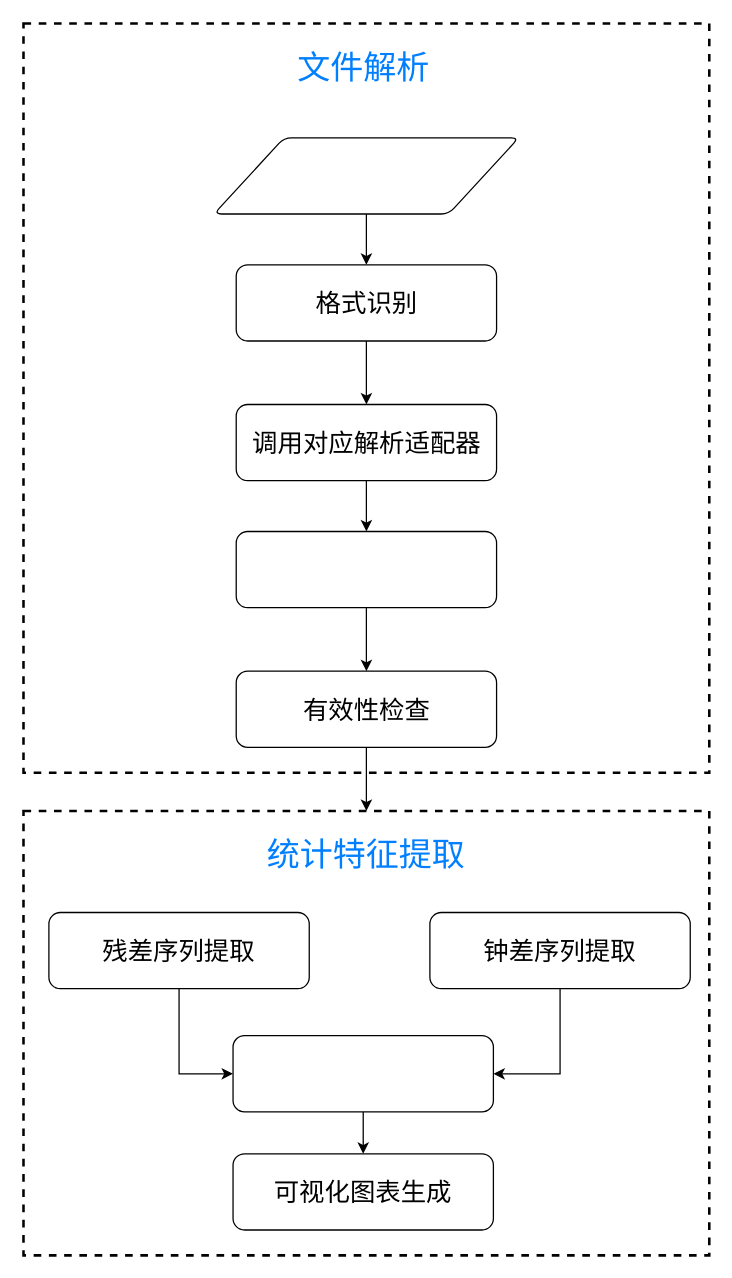
Image size: 732x1278. Some labels were removed from this diagram. Here are the shapes that lost their labels. From the top down, the centre of each, then its label:
At (366,175): "输入结果文件".
At (366,569): "结构化转换".
At (362,1073): "统一数据结构输出".
